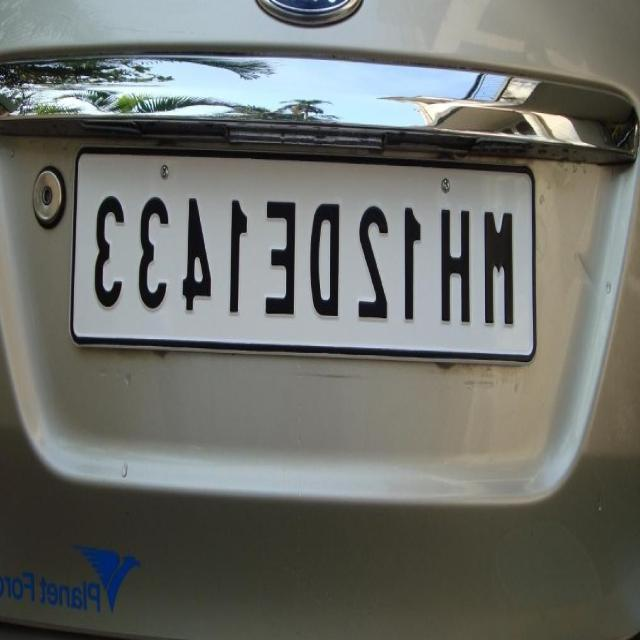number-plate: (69, 162, 532, 346)
